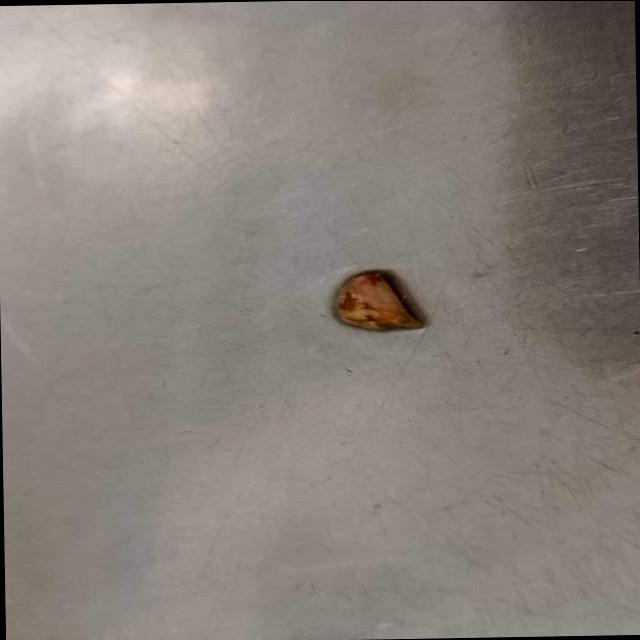Infectious: (333, 271, 425, 332)
